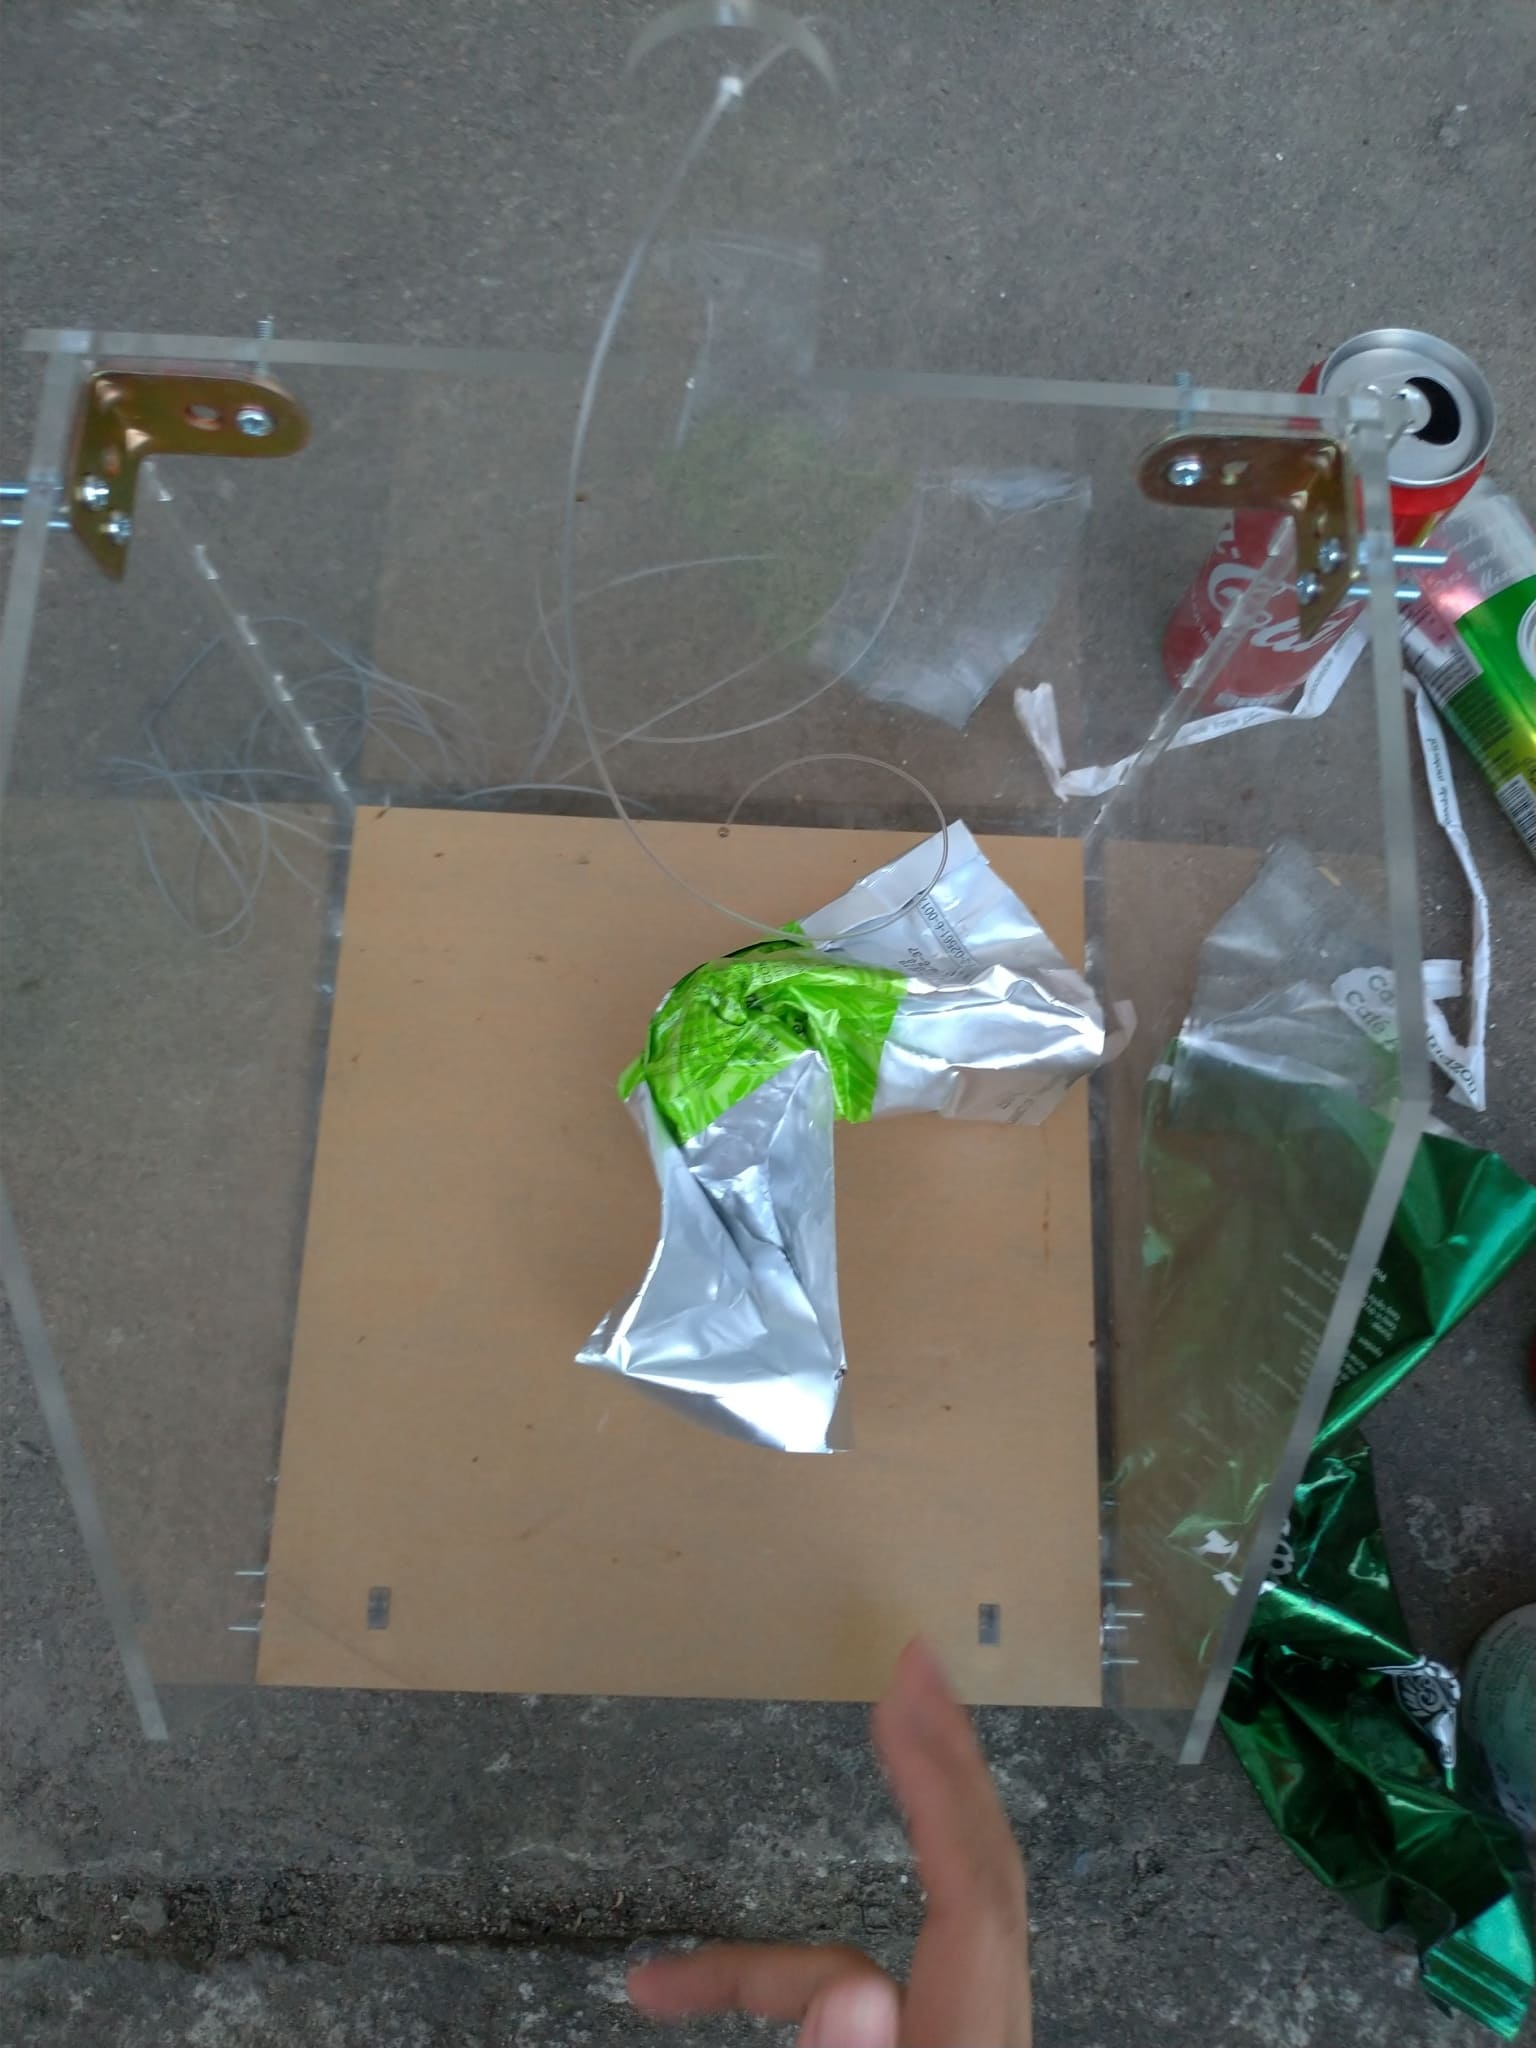AlCan: (1150, 311, 1475, 714), (1413, 477, 1536, 790)
Others: (1121, 839, 1534, 2033), (587, 842, 1107, 1467), (1350, 689, 1497, 1108), (1025, 642, 1367, 780)
